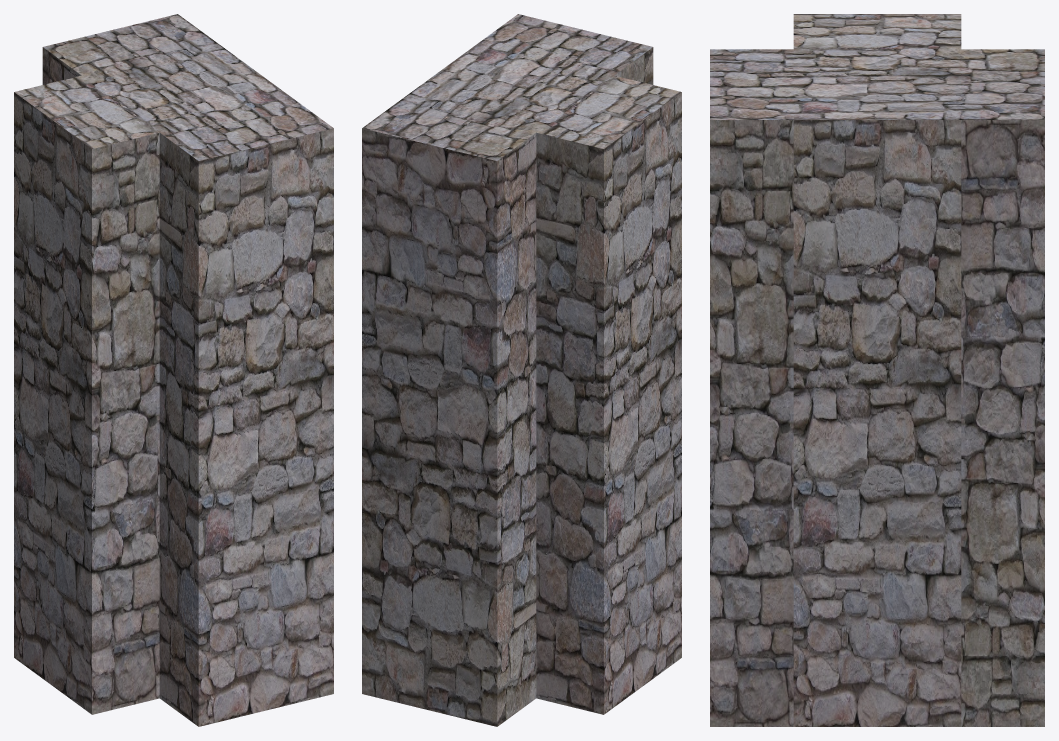
Rendered from hwall_fork.obj.
The picture shows the model from 3 angles, left to right: view 1: azimuth 30°, elevation 25°; view 2: azimuth 150°, elevation 25°; view 3: azimuth 270°, elevation 25°; orthographic projection. The views are drawn at different scales.
Size of the model in its own units: 0.75 by 2 by 1.
